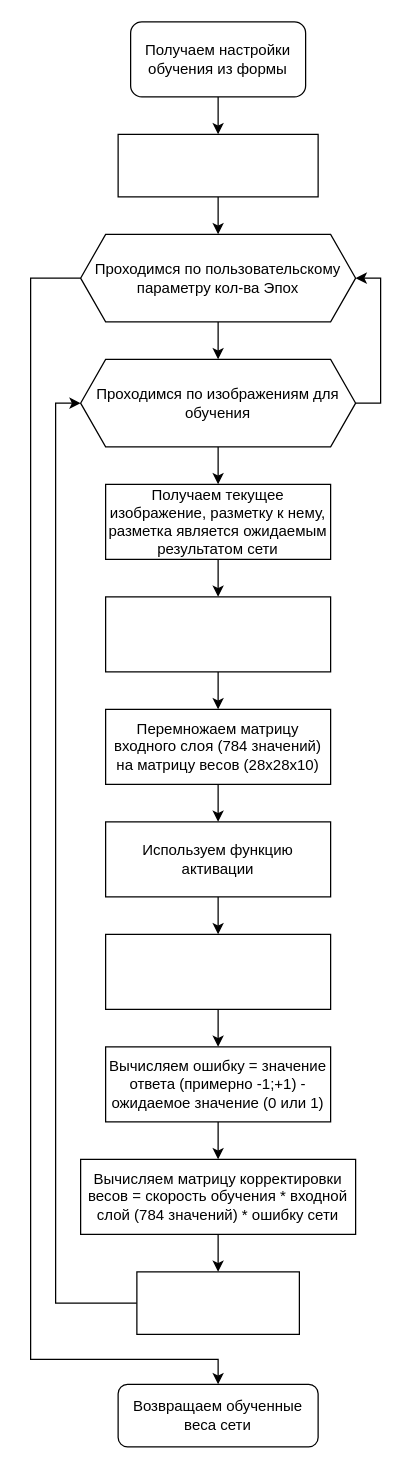
Image size: 413x1469. Some labels were removed from this diagram. The shapes that lost their labels are listed below. From the top down, each one's centre as x and y in pixels, then its label:
At (x=217, y=165): "Генерируем рандомные начальные веса 28х28х10".
At (x=217, y=634): "Переводим пиксели изображения в одну строку 28х28=784 значений в строке".
At (x=217, y=971): "Макс. значение функции активации будет являться ответом сети".
At (x=217, y=1302): "Обновляем значение весов сети".
